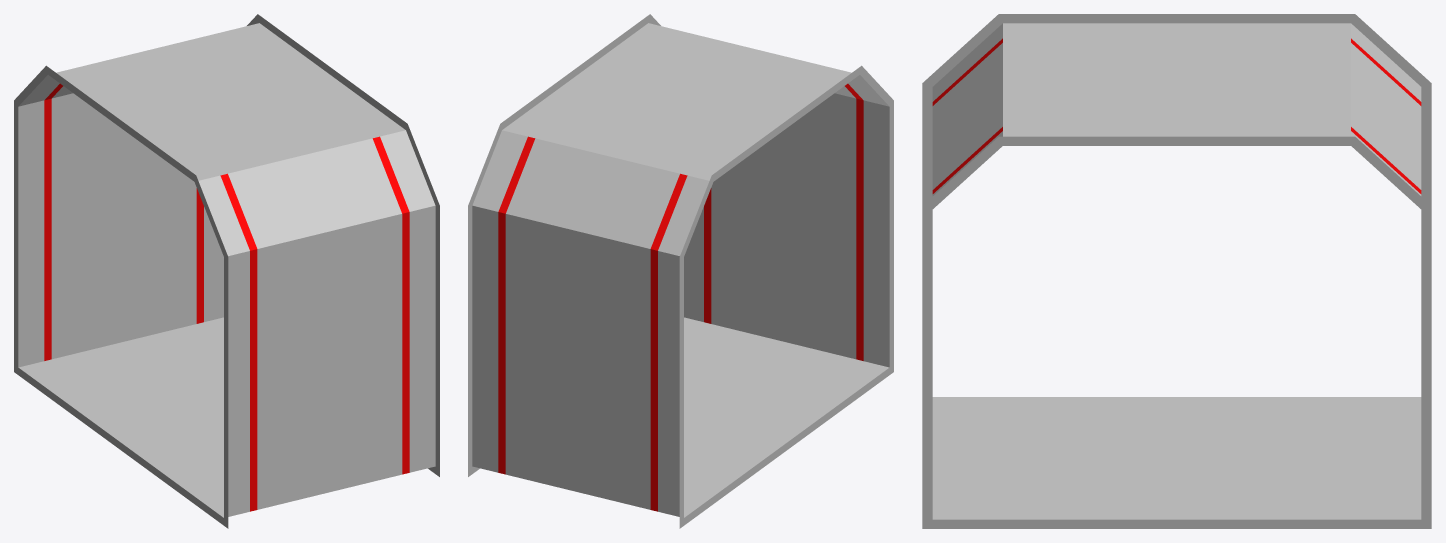
The model's file is Tesla-Gate-Type-0.obj.
3 views of the same model, side by side, from view 1: azimuth 30°, elevation 25°; view 2: azimuth 150°, elevation 25°; view 3: azimuth 270°, elevation 25° (orthographic). The views are drawn at different scales.
Parts seen in each view (by area): view 1: Tesla-Gate-Type-0; view 2: Tesla-Gate-Type-0; view 3: Tesla-Gate-Type-0.
Part boxes in pixels (x1,y1,x2,y2): Tesla-Gate-Type-0: (14,14,439,528); Tesla-Gate-Type-0: (468,14,893,528); Tesla-Gate-Type-0: (922,14,1431,528).
Size of the model in its own units: 2.85 by 4.25 by 5.
